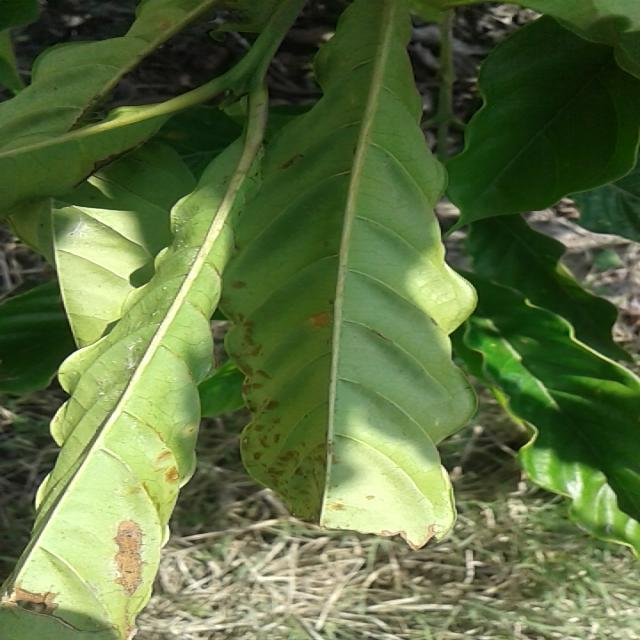Enfermedad-Roya: (215, 0, 478, 550)
